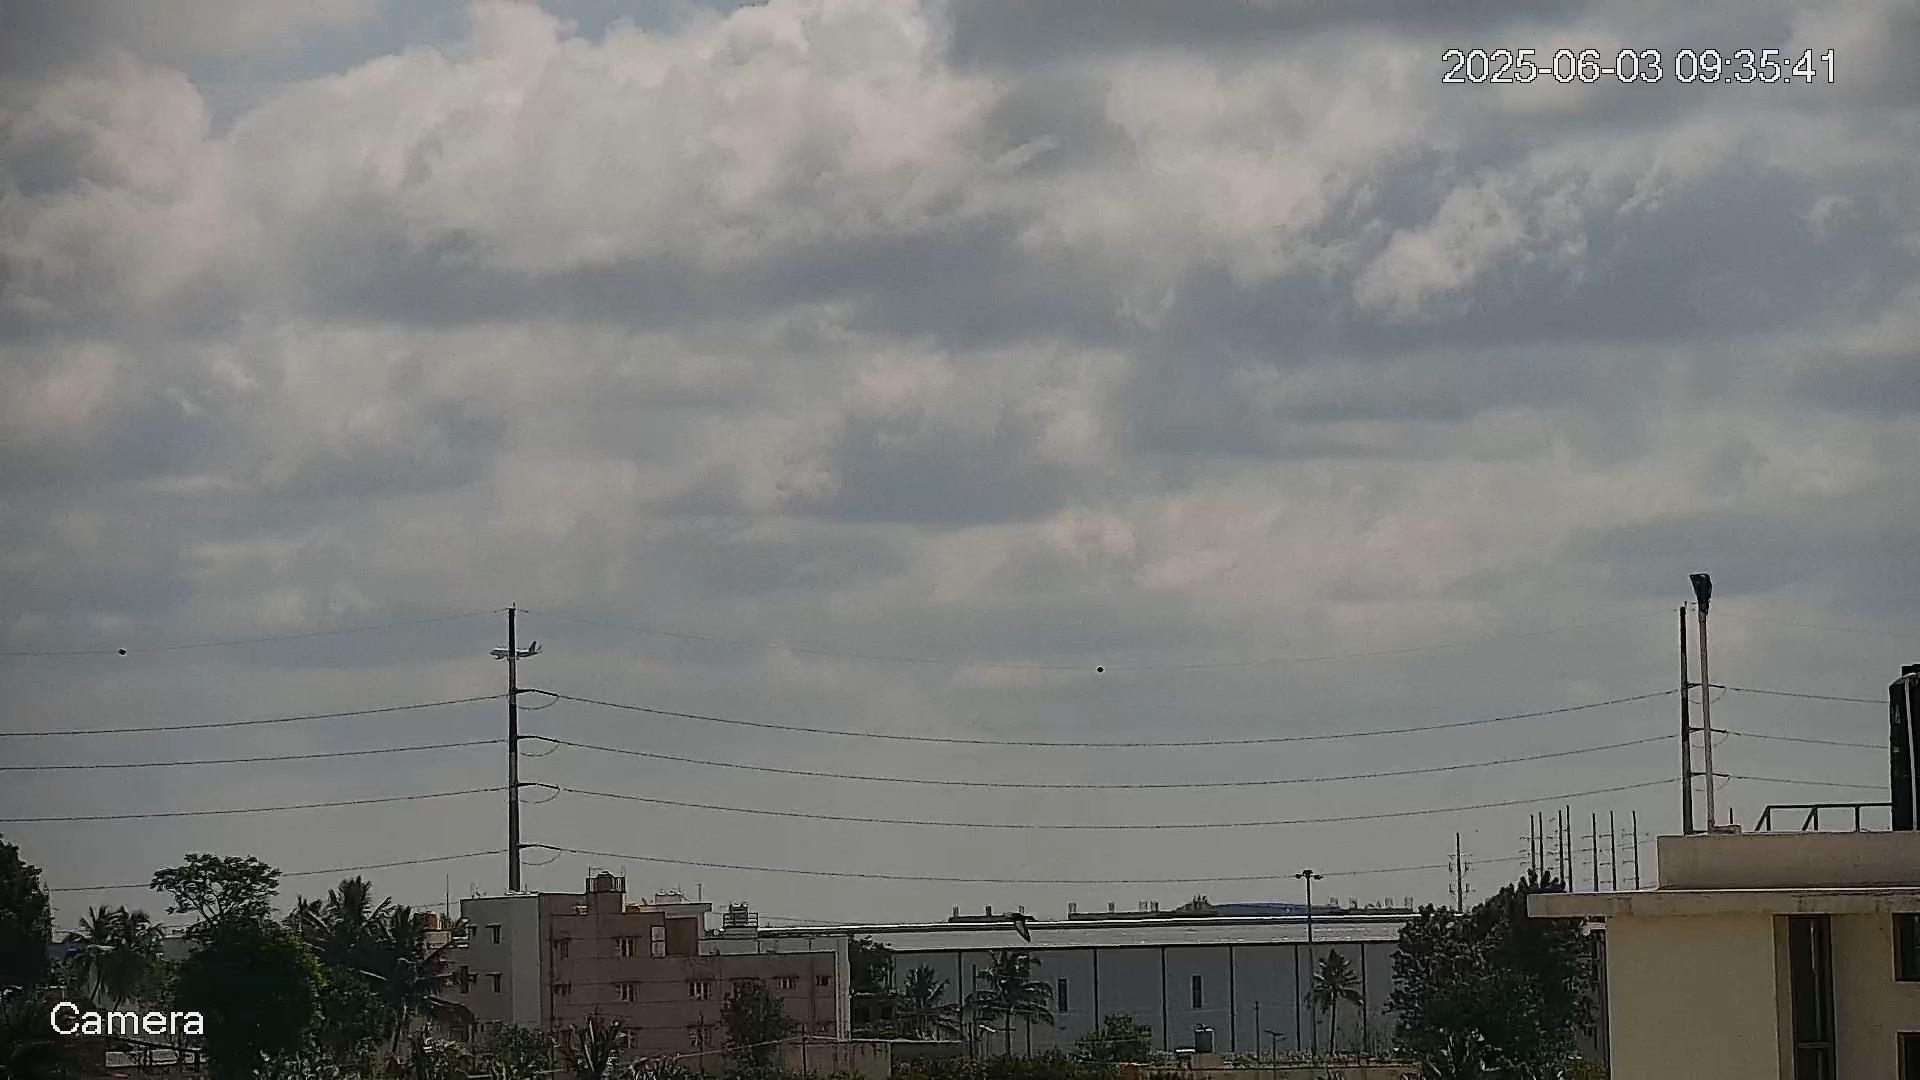Aircraft: (489, 640, 545, 662)
